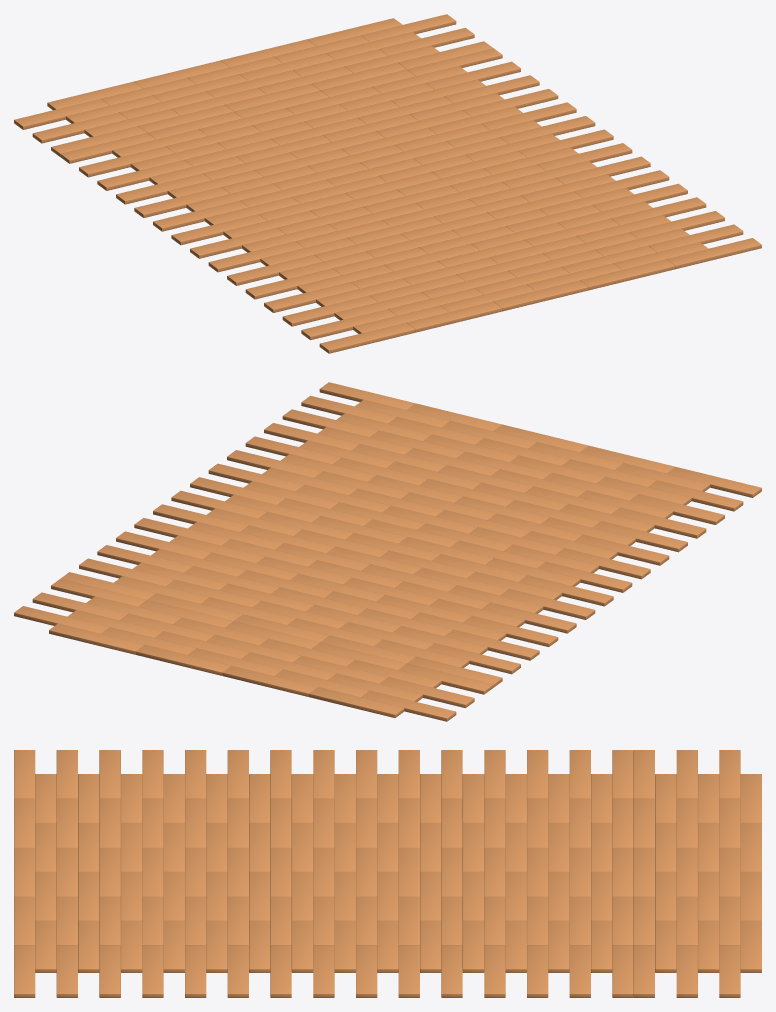
The model's file is New Wooden3.fbx.
The picture shows the model from 3 angles, top to bottom: view 1: azimuth 30°, elevation 25°; view 2: azimuth 150°, elevation 25°; view 3: azimuth 270°, elevation 25°; orthographic projection. The views are drawn at different scales.
Parts seen in each view (by area): view 1: Cube.037; view 2: Cube.037; view 3: Cube.037.
Part boxes in pixels (x1,y1,x2,y2): Cube.037: [14, 14, 761, 353]; Cube.037: [14, 382, 761, 721]; Cube.037: [14, 750, 761, 997].
Bounding box in the file's own units: 709 × 5.84 × 919.
